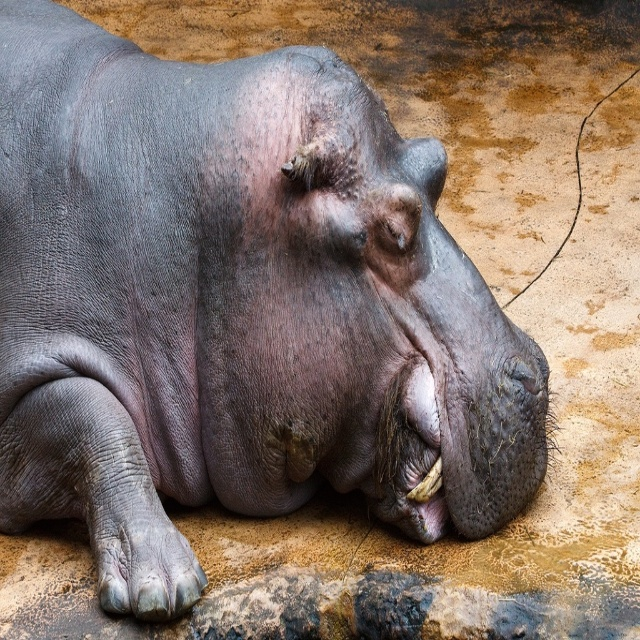Hippopotamus: (0, 0, 559, 623)
